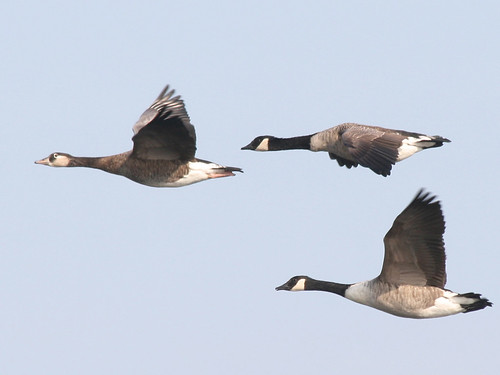goose: (274, 187, 494, 320), (32, 83, 245, 188), (240, 121, 453, 181)
